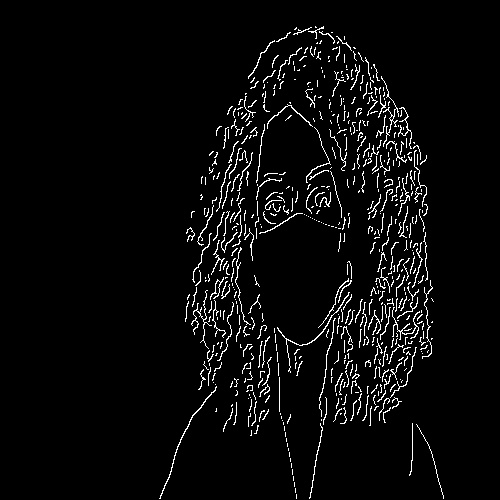mask: (244, 212, 348, 340)
